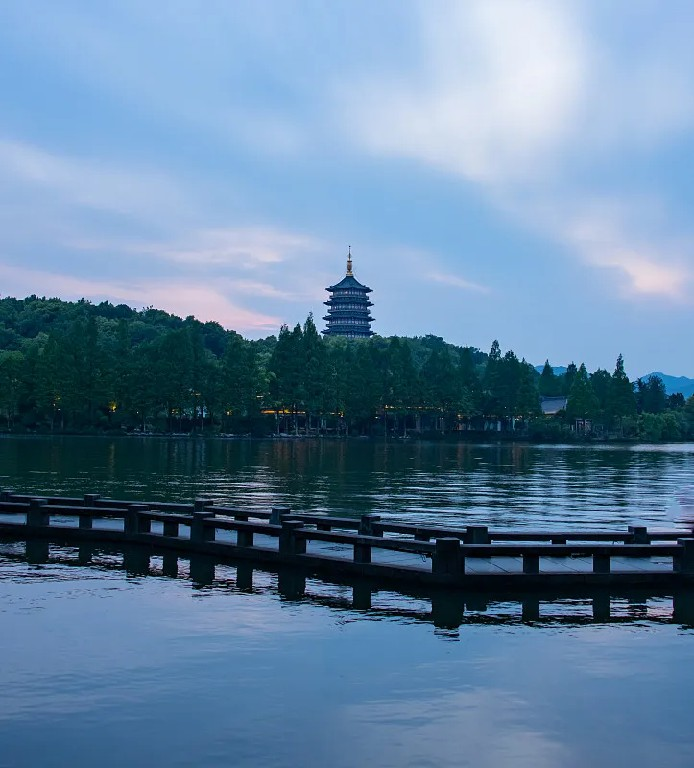Leifeng: (319, 243, 375, 341)
